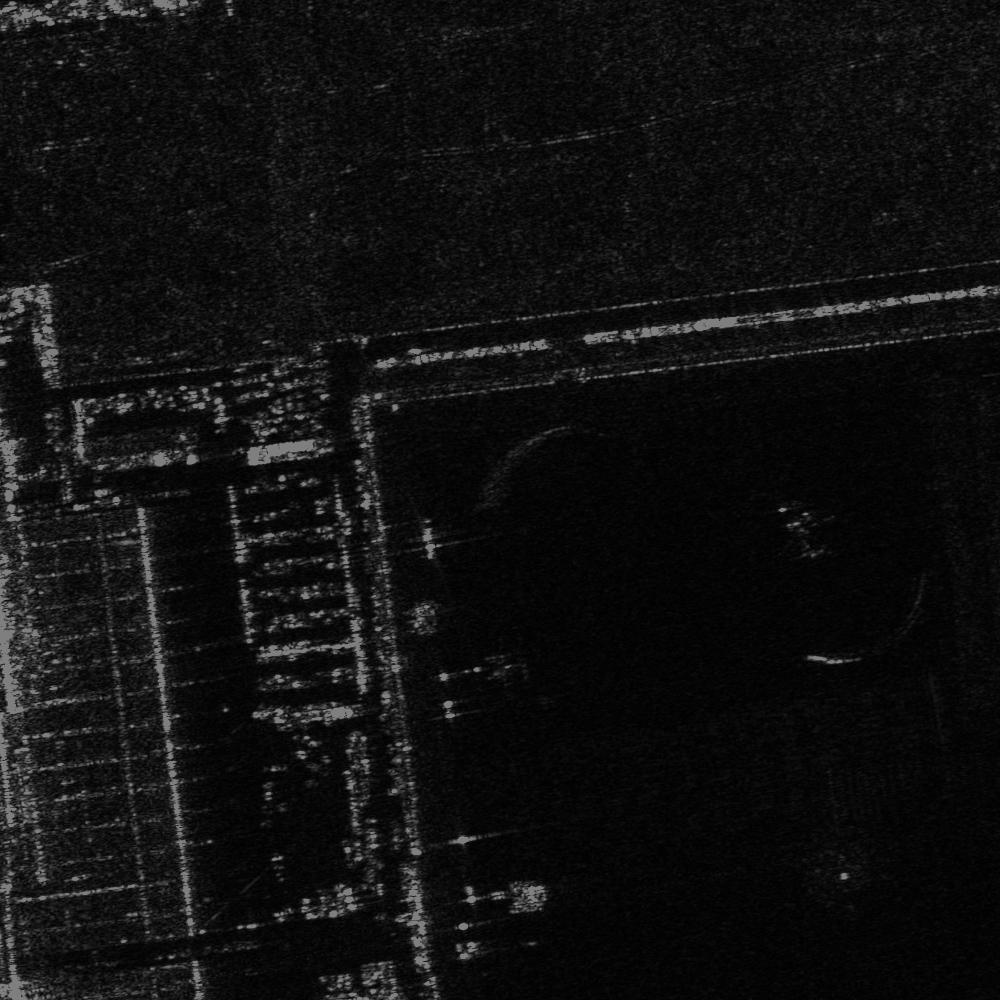A220: (768, 503, 837, 561)
